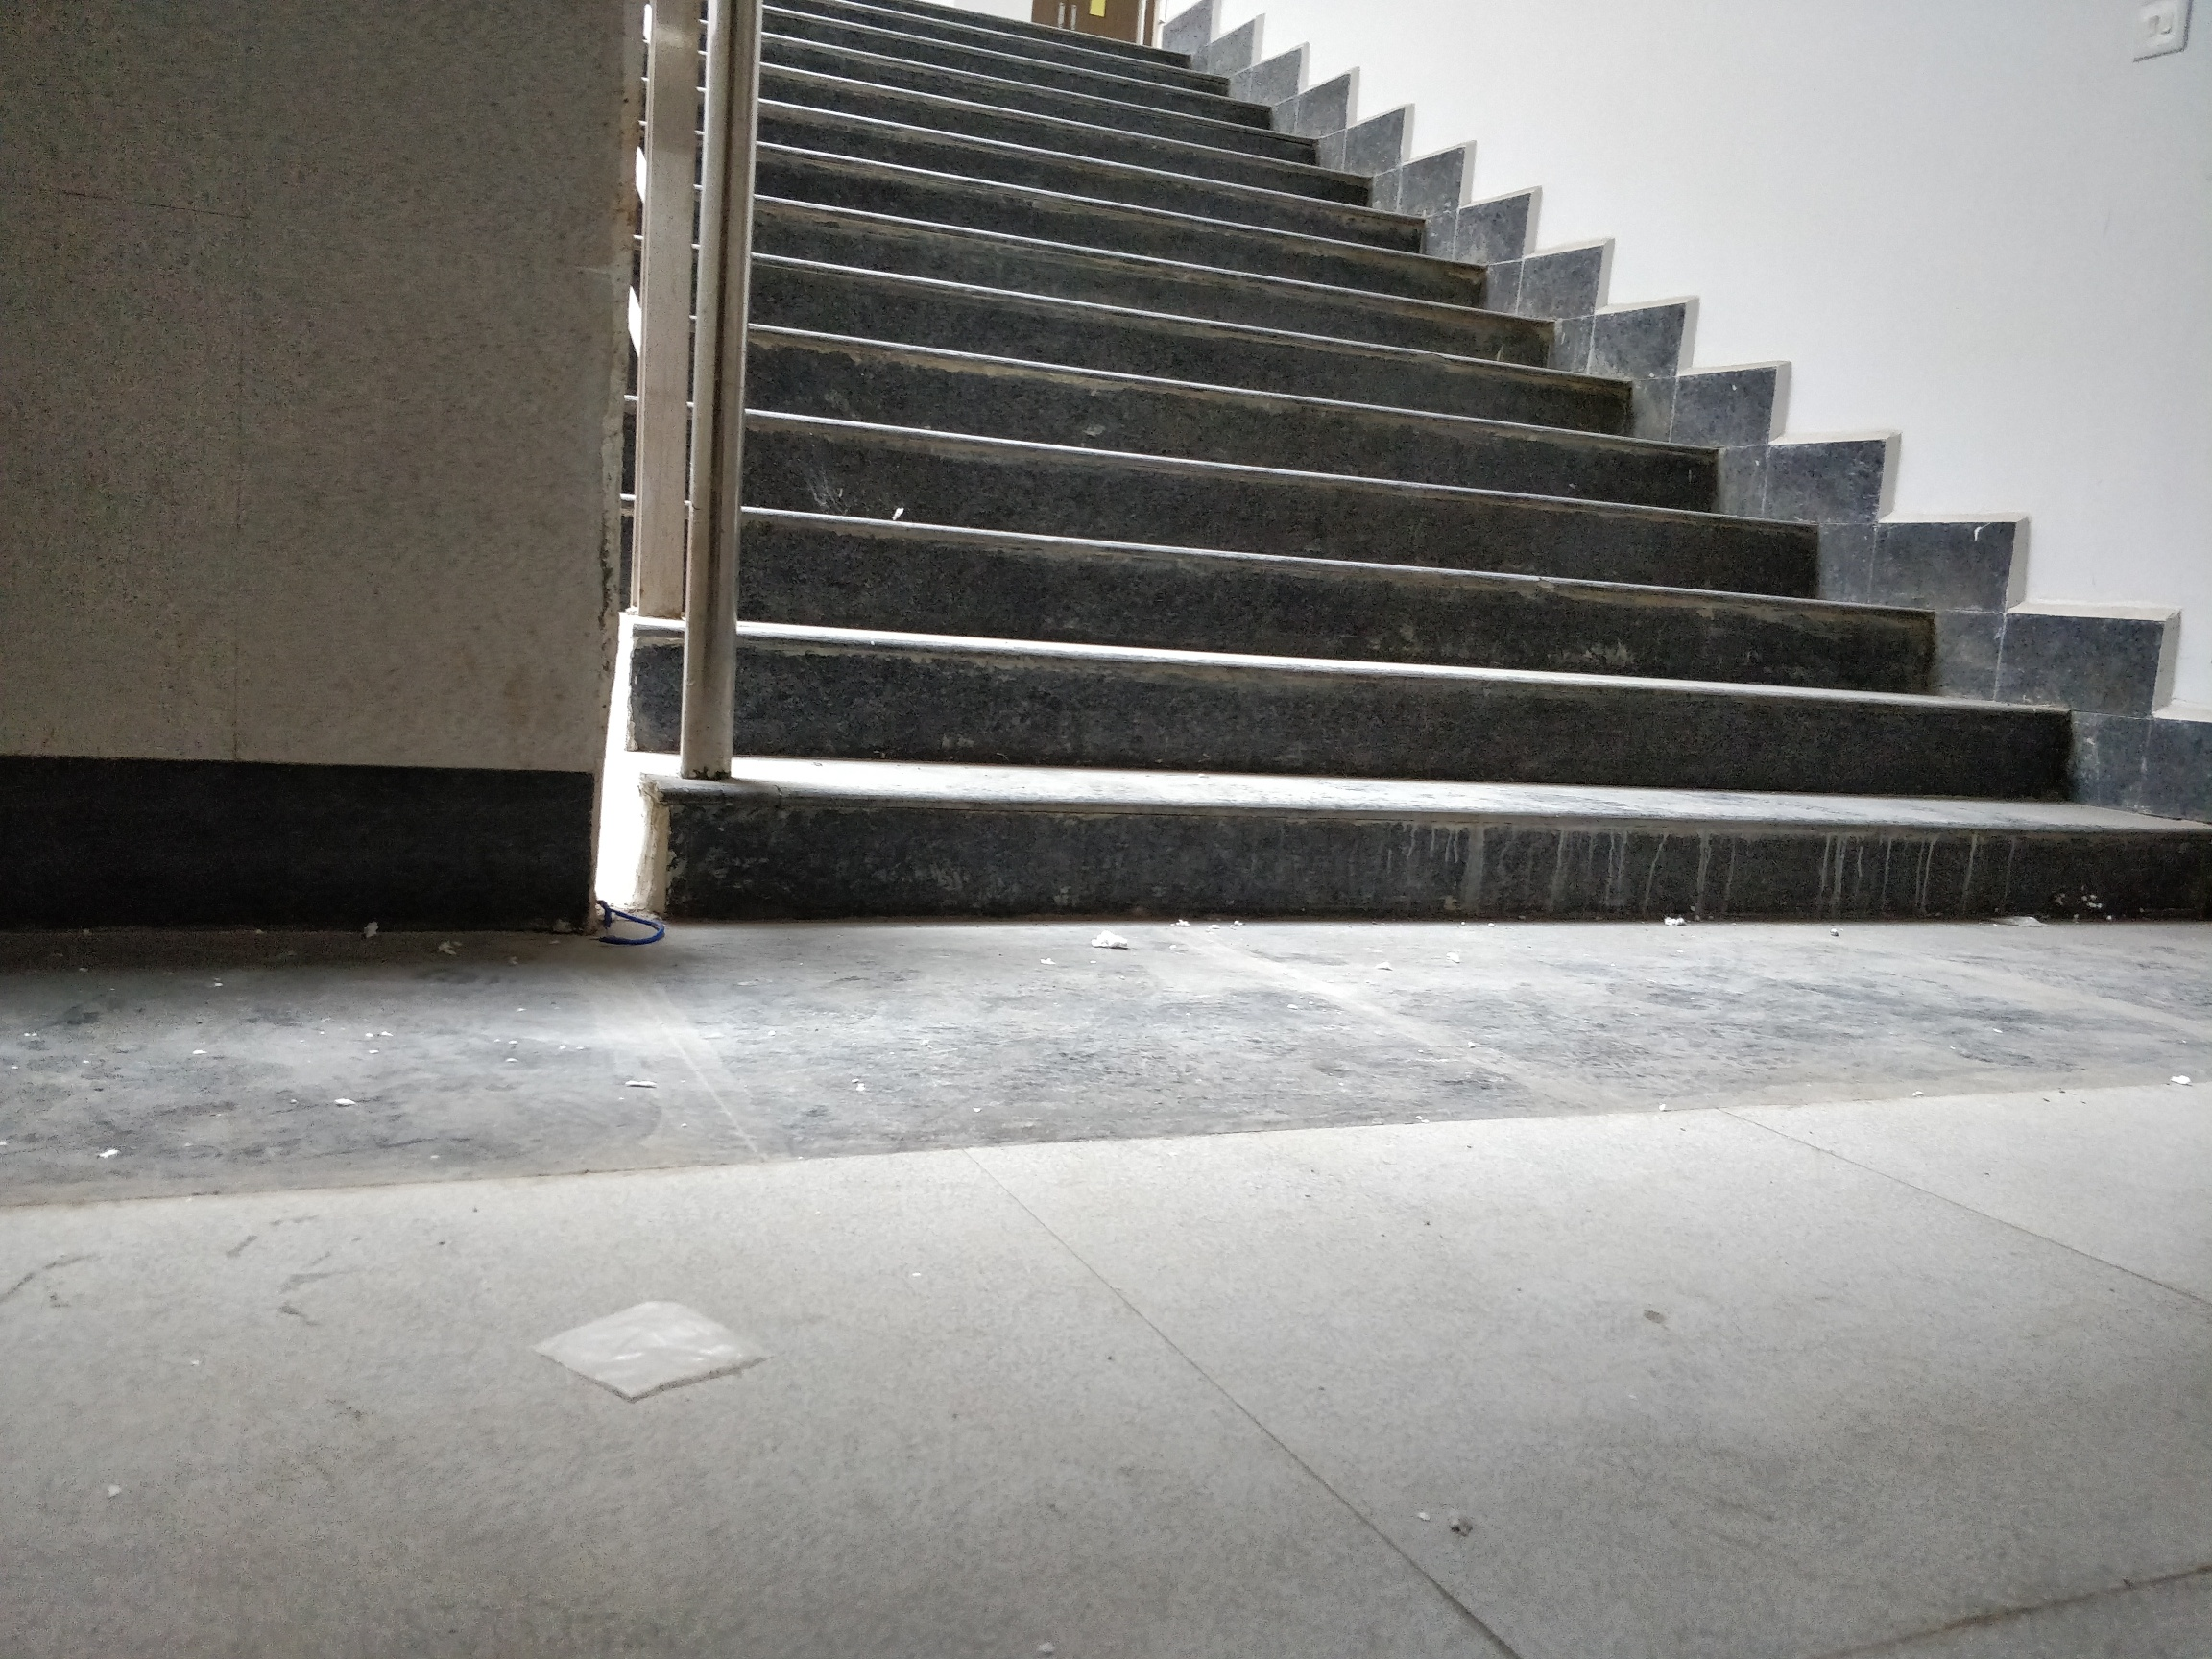stairs_up: (634, 82, 2182, 894)
